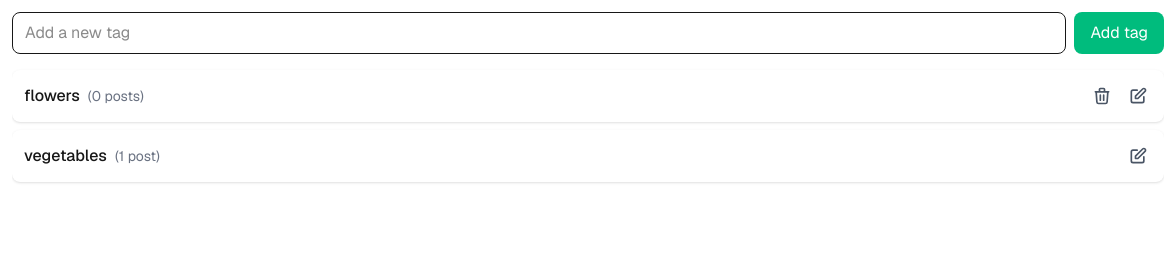
TagManager › handles error responses
The image size is (1176, 256).
Expected: the text "flowers" is shown, [24,85,80,106]
Note: Try to add new tag
Type "herbs" into the field with placeholder "Add a new tag". click: (539, 33)
box: [12,12,1066,54]
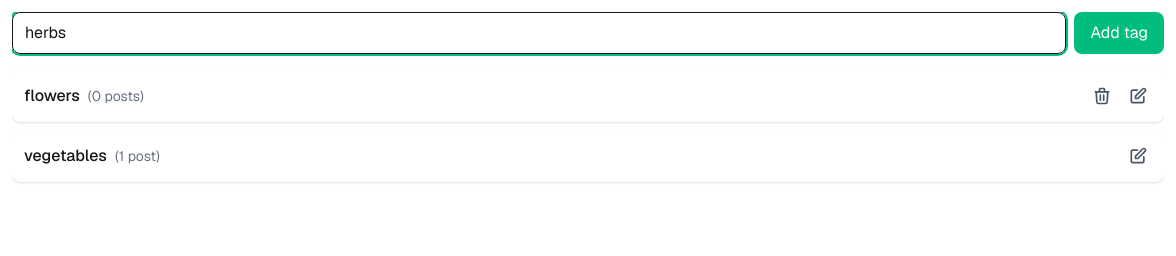
Click the button "Add tag". click: click(1119, 33)
box: [1074,12,1164,54]
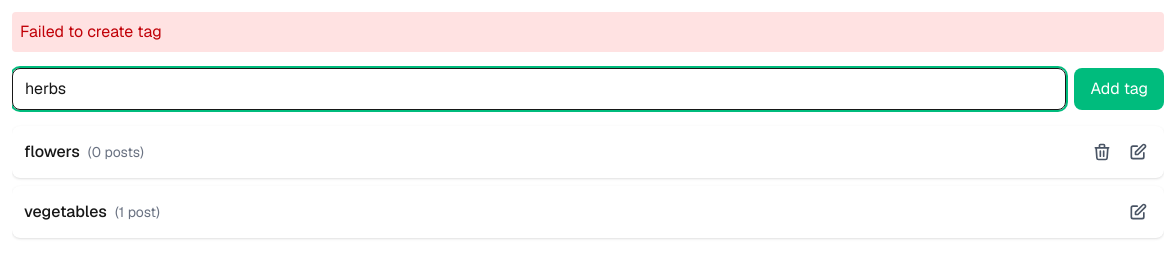
Expected: the text "Failed to create tag" is shown, [12,12,1164,52]
